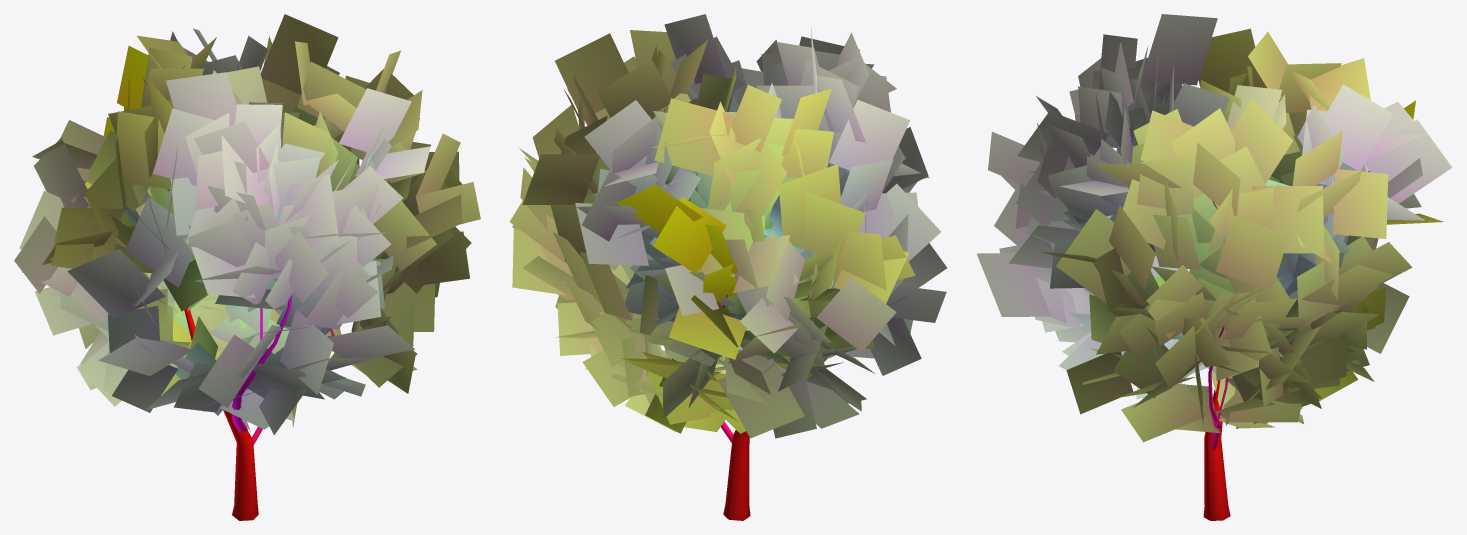
The model's file is acacia_lod1.glb.
The picture shows the model from 3 angles, left to right: view 1: azimuth 30°, elevation 25°; view 2: azimuth 150°, elevation 25°; view 3: azimuth 270°, elevation 25°; orthographic projection.
Visible parts, largest first — view 1: acacia_lod1; view 2: acacia_lod1; view 3: acacia_lod1.
Boxes of the visible parts, left/top/right/bottom form: acacia_lod1: left=14, top=14, right=480, bottom=520; acacia_lod1: left=509, top=14, right=946, bottom=520; acacia_lod1: left=977, top=14, right=1452, bottom=520.
Size of the model in its own units: 12.77 by 14.18 by 12.73.
